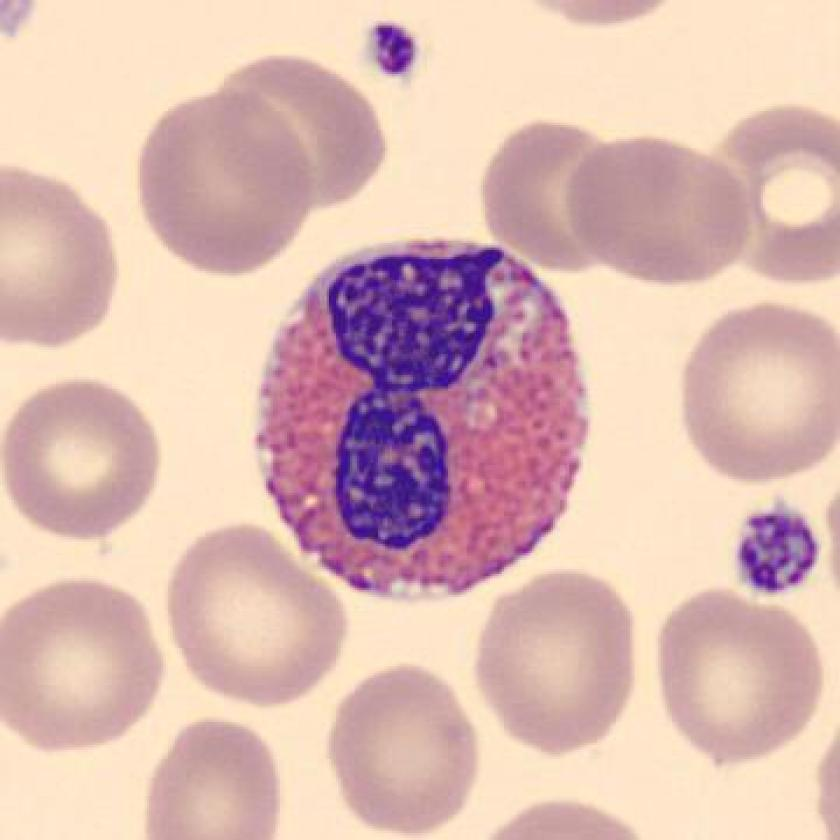eosinophil: (241, 225, 608, 619)
